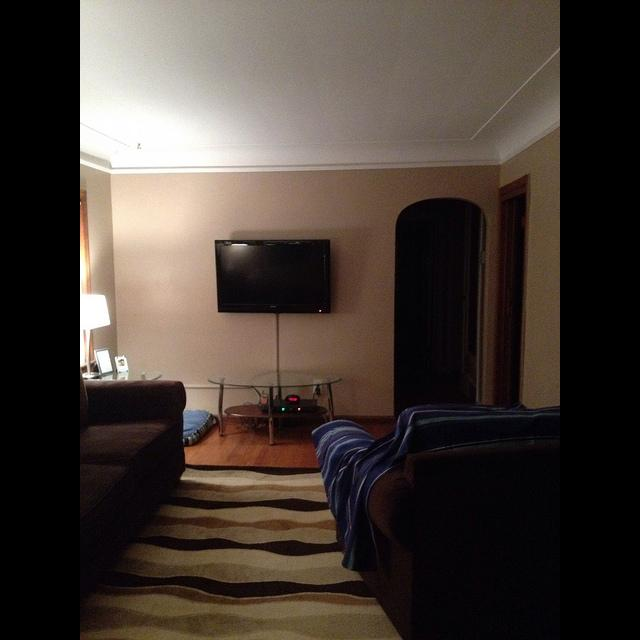Flat-Panel-TV: (215, 240, 332, 314)
